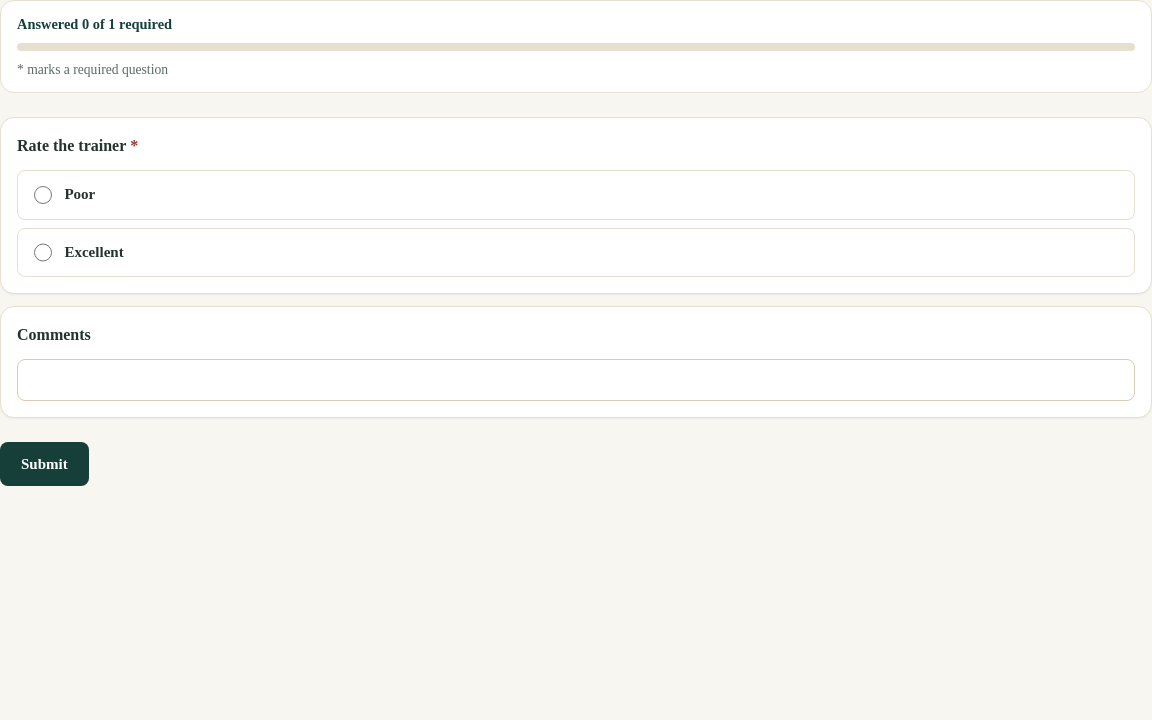
Test: SurveyForm › presents the final confirmation as an accessible dialog and returns focus on cancel
Click the radio button labelled "Excellent" at (43, 252), box [34,243,52,262]
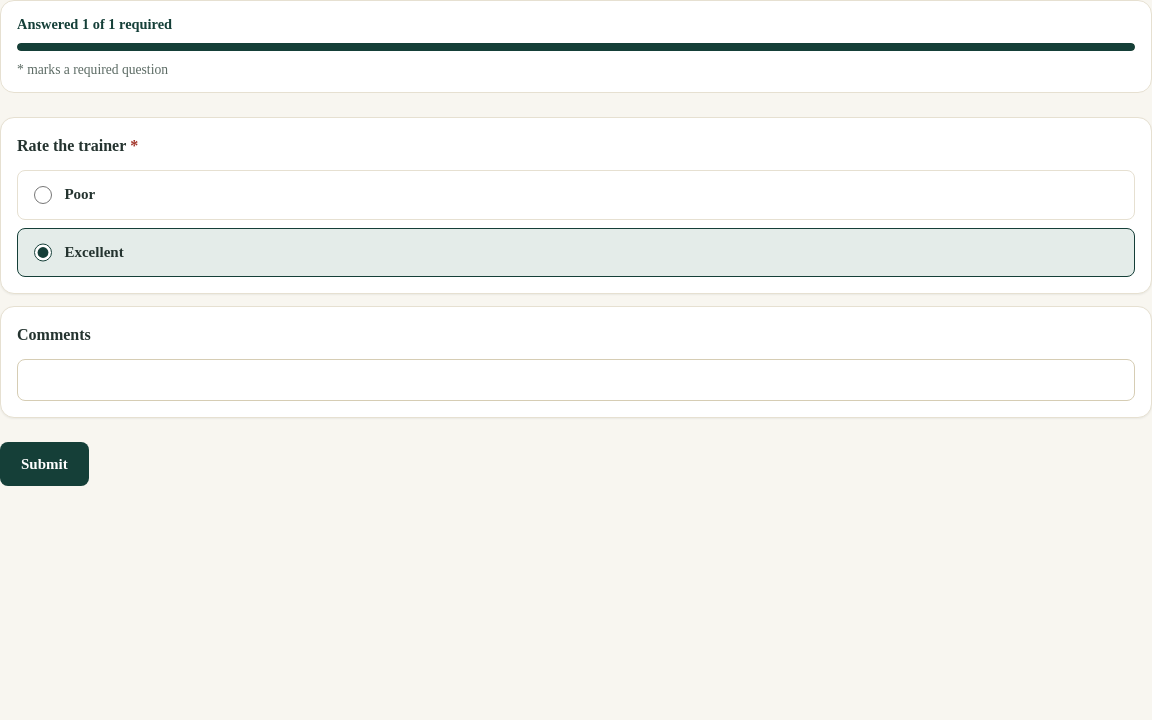
Click the button "Submit" at (44, 464), box [0,442,89,486]
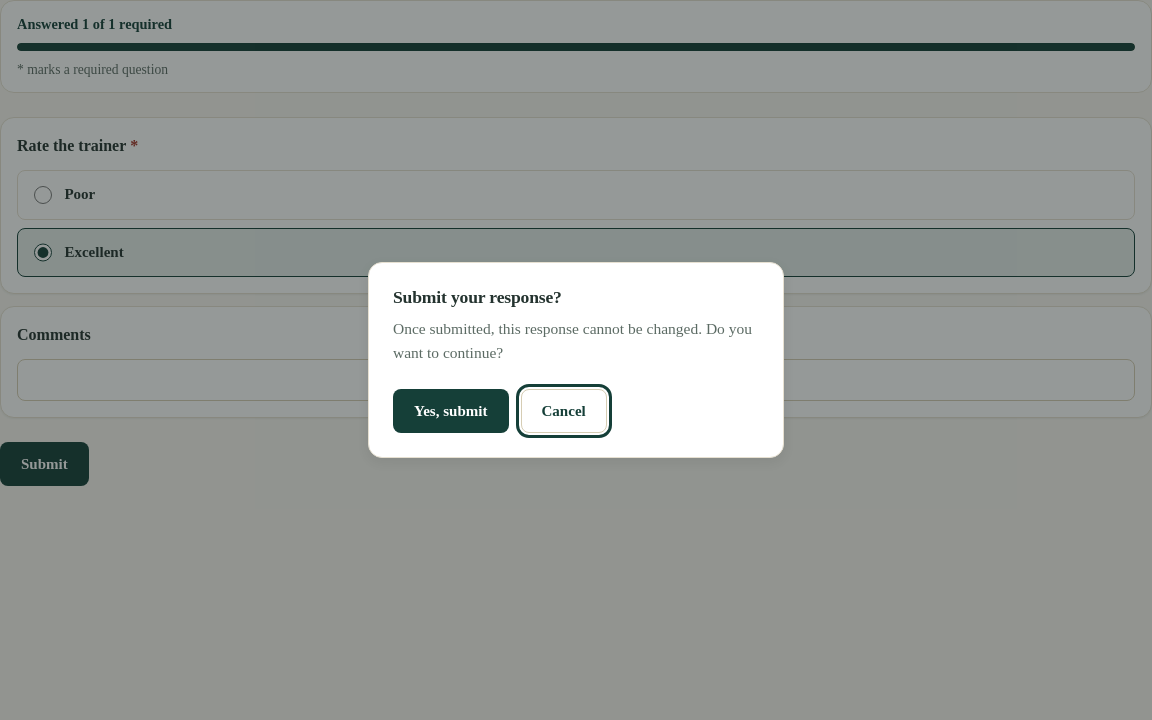
Press Escape in the dialog "Submit your response?", box [368,262,784,458]
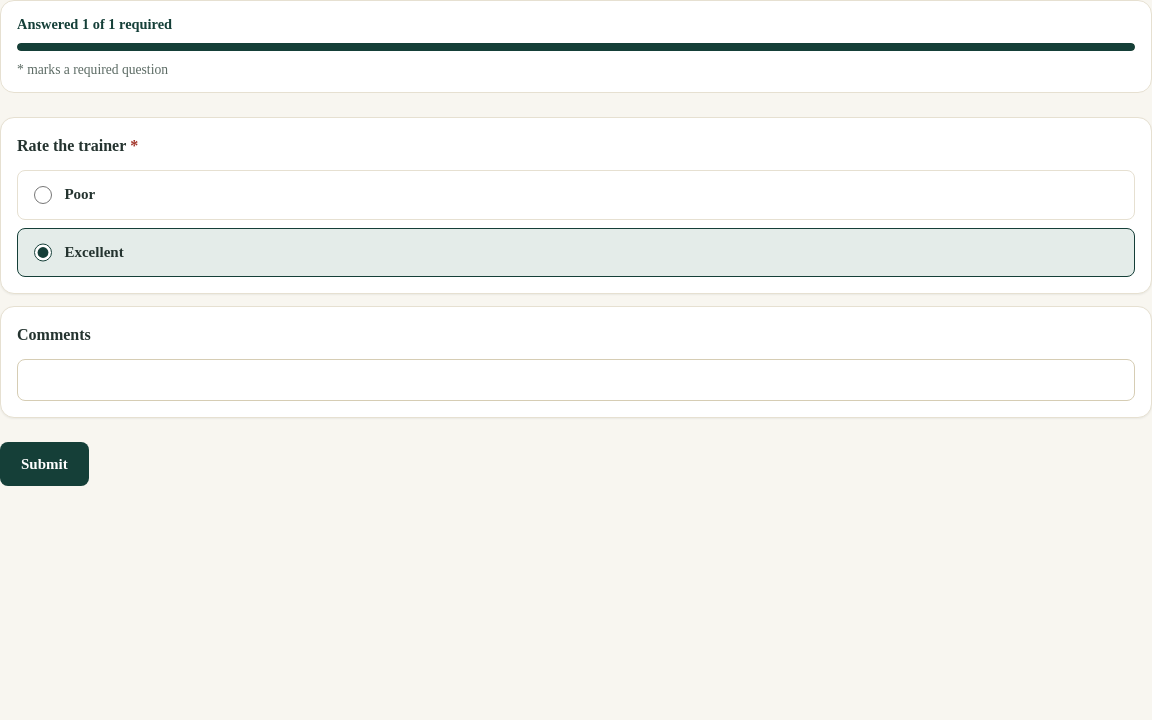
expect the dialog is gone: met
